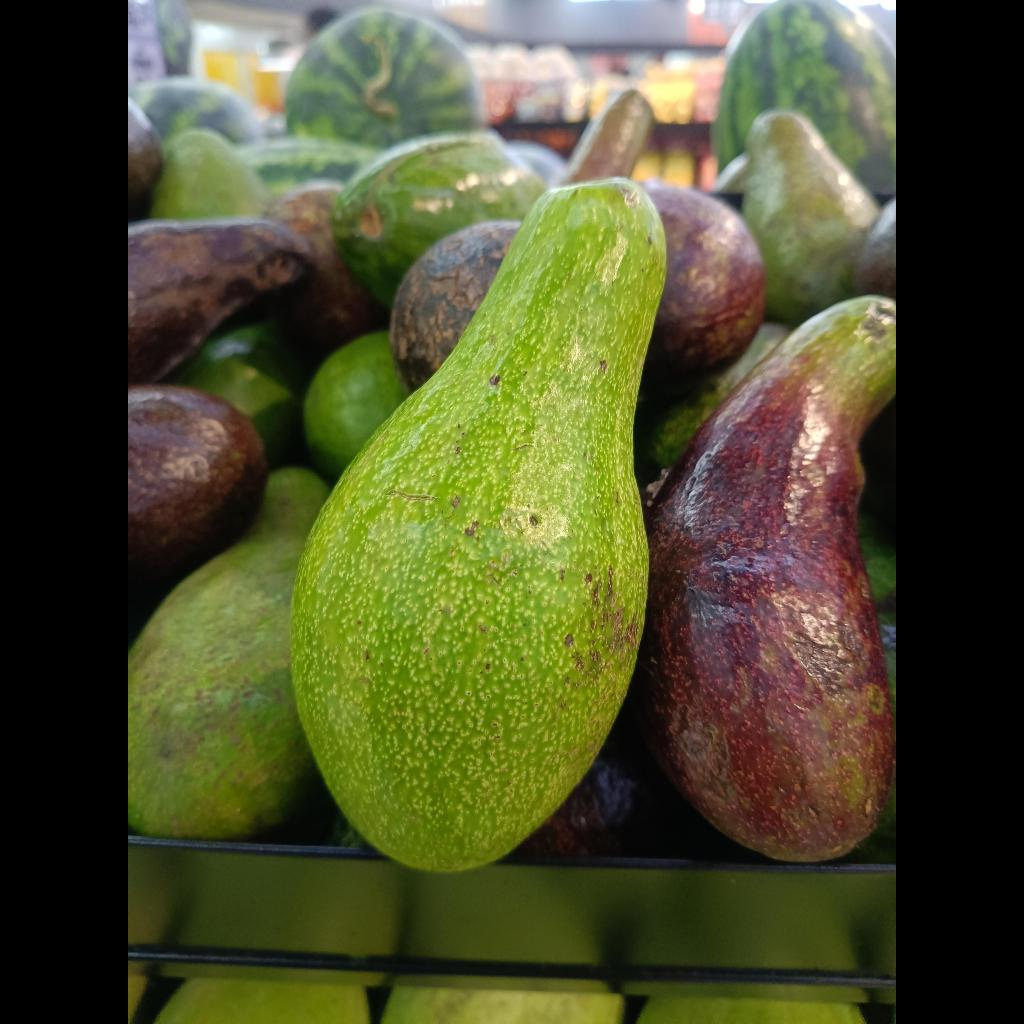healthy: (291, 178, 666, 870)
